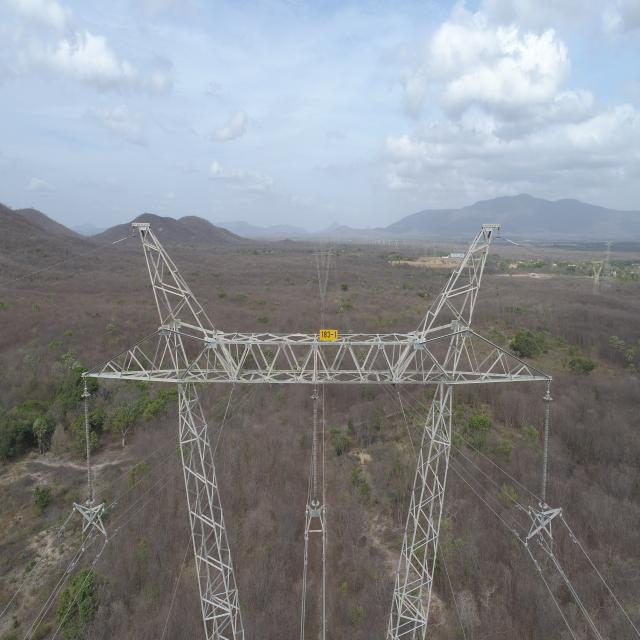杆塔: (84, 217, 545, 640)
正常绝缘子: (76, 372, 104, 534), (537, 380, 555, 532)
